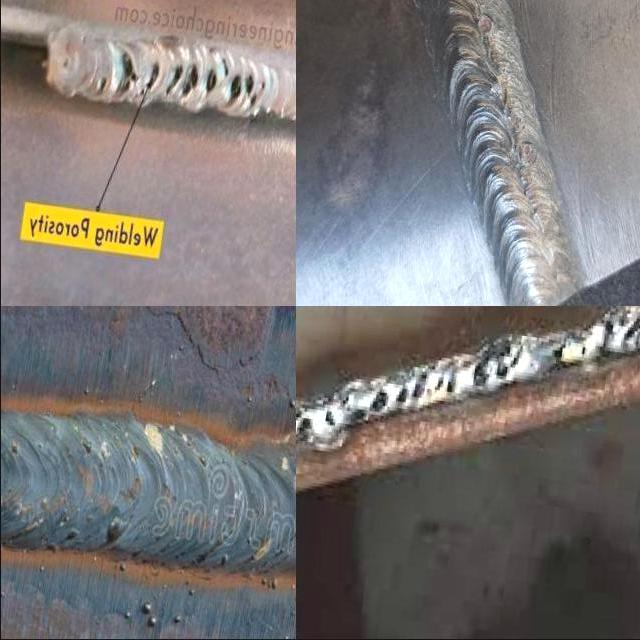defect: (467, 337, 523, 394), (393, 376, 458, 409), (218, 57, 258, 110), (347, 389, 393, 426), (599, 313, 640, 349), (116, 49, 138, 97), (135, 59, 161, 99), (295, 399, 317, 444), (181, 65, 198, 98), (164, 65, 182, 96), (548, 339, 570, 364), (476, 16, 495, 39), (520, 143, 537, 168), (322, 407, 339, 432), (506, 109, 523, 133), (204, 68, 217, 97), (497, 61, 511, 80), (95, 75, 108, 95), (577, 345, 586, 359), (259, 82, 264, 92)
